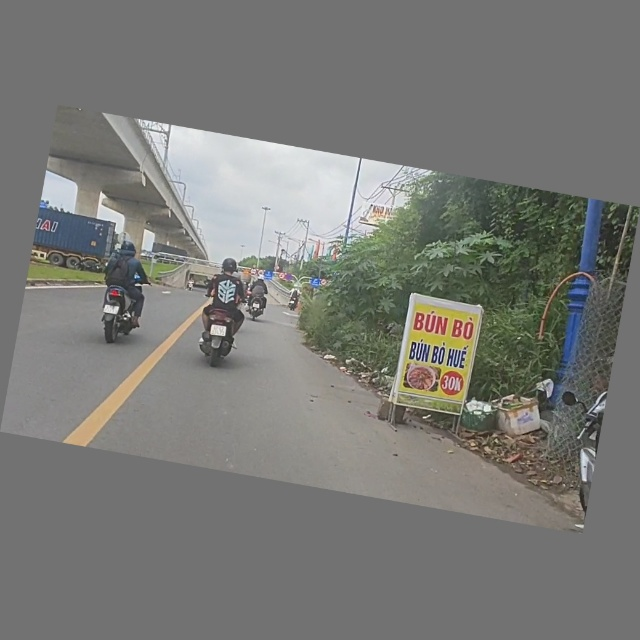P.107: (277, 272, 286, 280), (320, 278, 328, 287)
P.117*: (249, 268, 257, 277)
P.127*40: (257, 270, 265, 278)
P.130: (285, 274, 293, 282)
